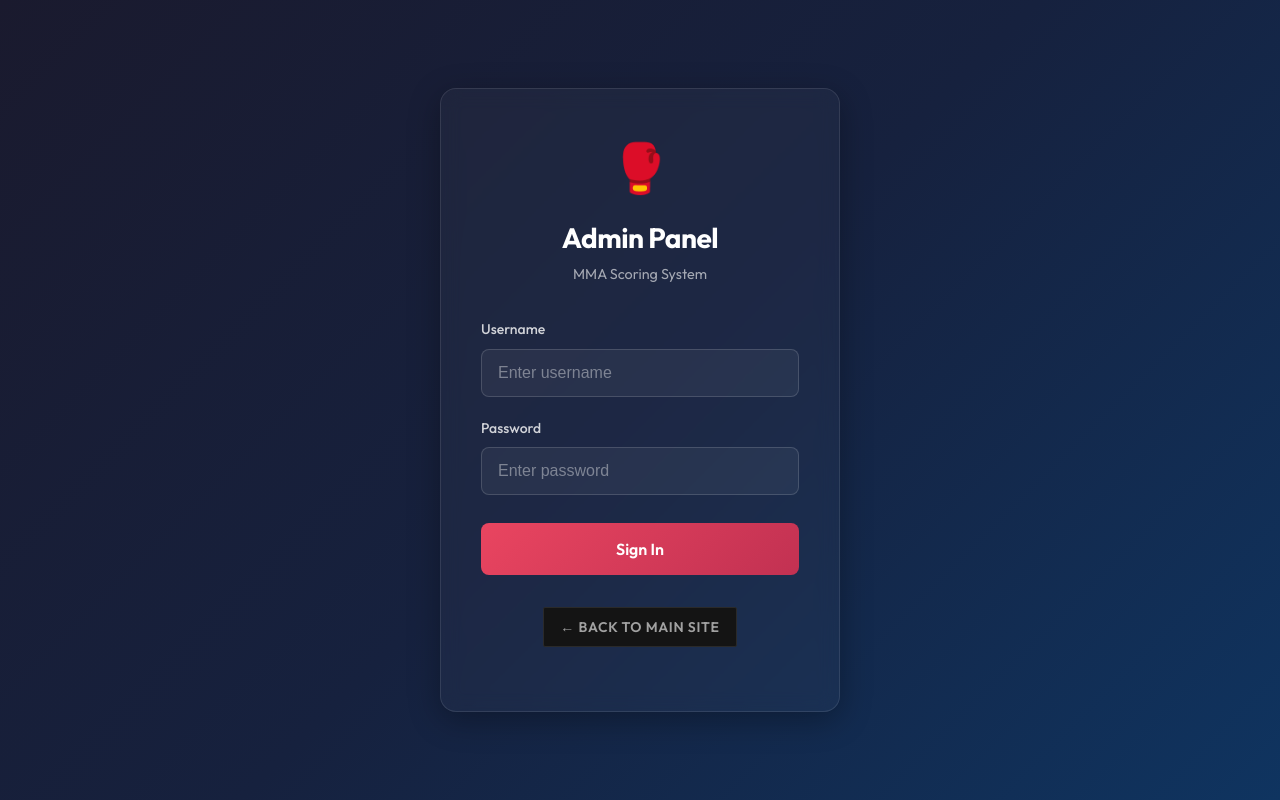
Scenario: AdminLoginPage › should show error on failed login
The width and height of the screenshot is (1280, 800).
Type "wrong" into the field labelled "Username" at (640, 372), box [481,348,799,396]
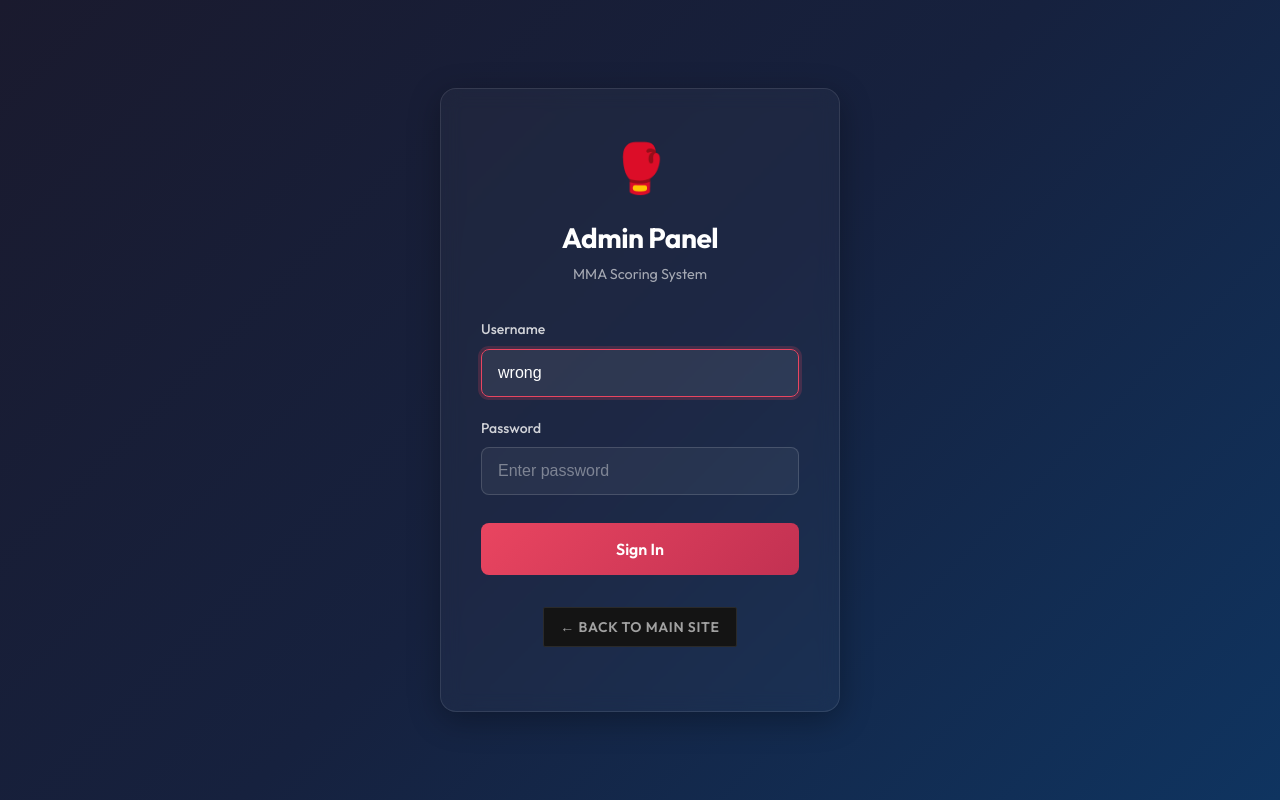
Type "wrong" into the password field labelled "Password" at (640, 471), box [481,447,799,495]
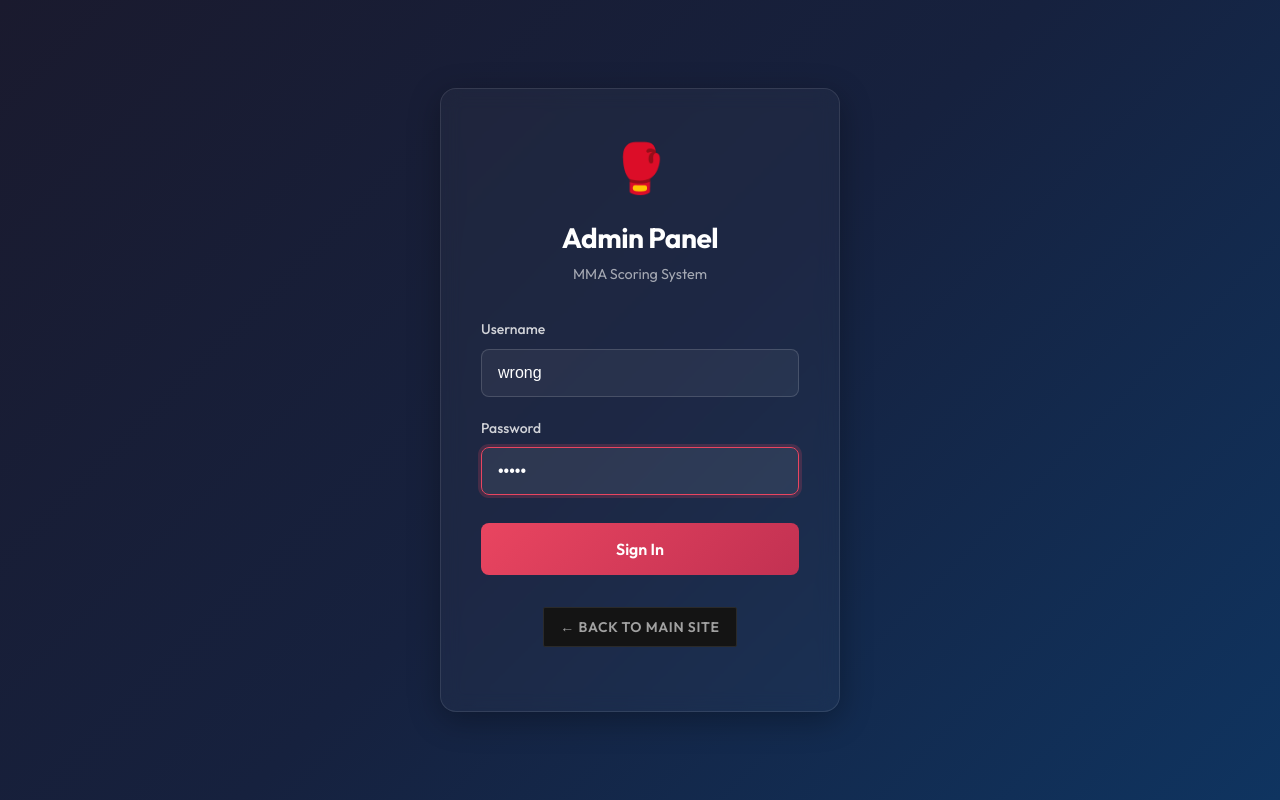
Click the button "Sign In" at (640, 549), box [481,523,799,575]
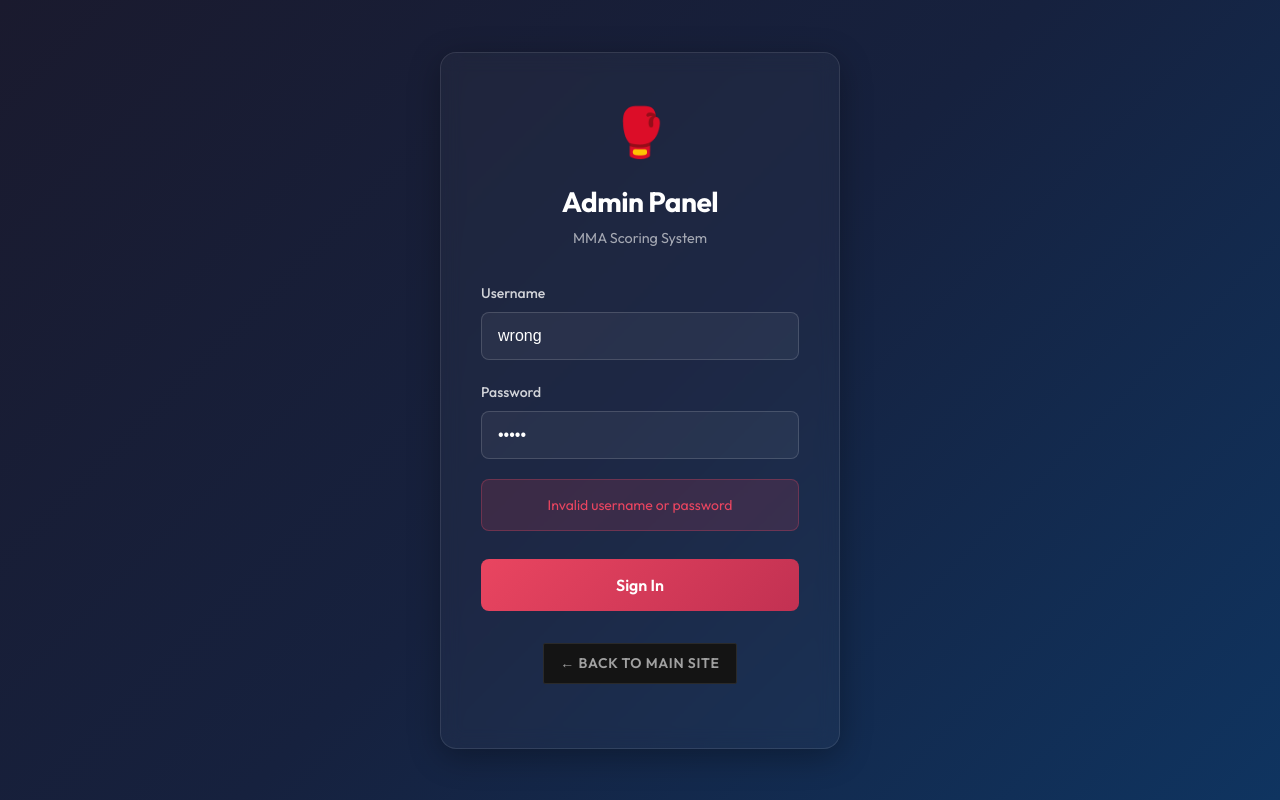
Now the text "Invalid username or password" is shown, box [481,479,799,531]
